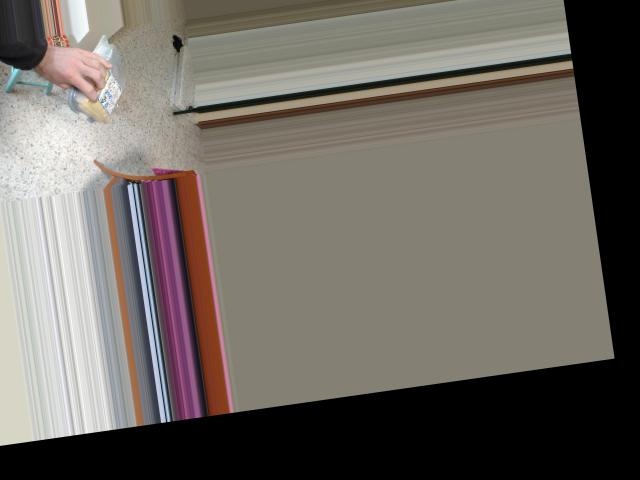cheese: (74, 38, 125, 134)
